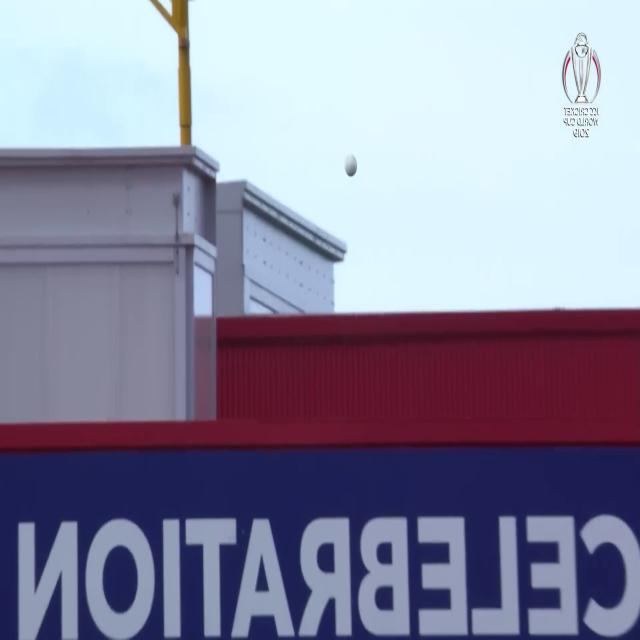ball: (342, 148, 360, 180)
